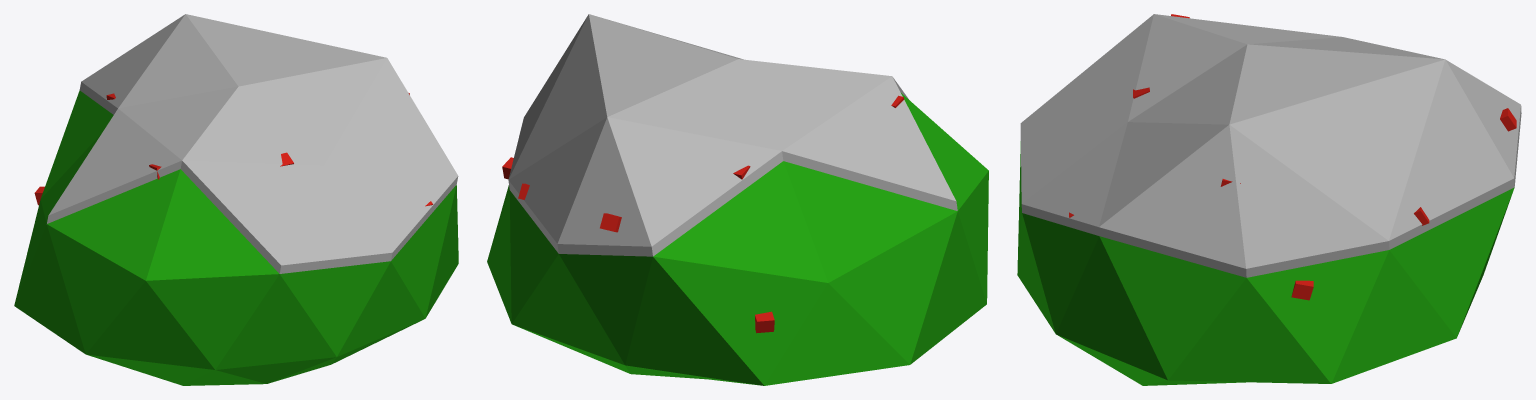
Rendered from Bush_1 Winter.fbx.
The picture shows the model from 3 angles, left to right: view 1: azimuth 30°, elevation 25°; view 2: azimuth 150°, elevation 25°; view 3: azimuth 270°, elevation 25°; orthographic projection. The views are drawn at different scales.
Parts seen in each view (by area): view 1: BushWinter_mesh; view 2: BushWinter_mesh; view 3: BushWinter_mesh.
Boxes of the visible parts, x1,y1,x2,y2 form: BushWinter_mesh: [14, 14, 458, 385]; BushWinter_mesh: [487, 14, 988, 385]; BushWinter_mesh: [1017, 14, 1521, 385].
Size of the model in its own units: 269 by 177 by 261.
